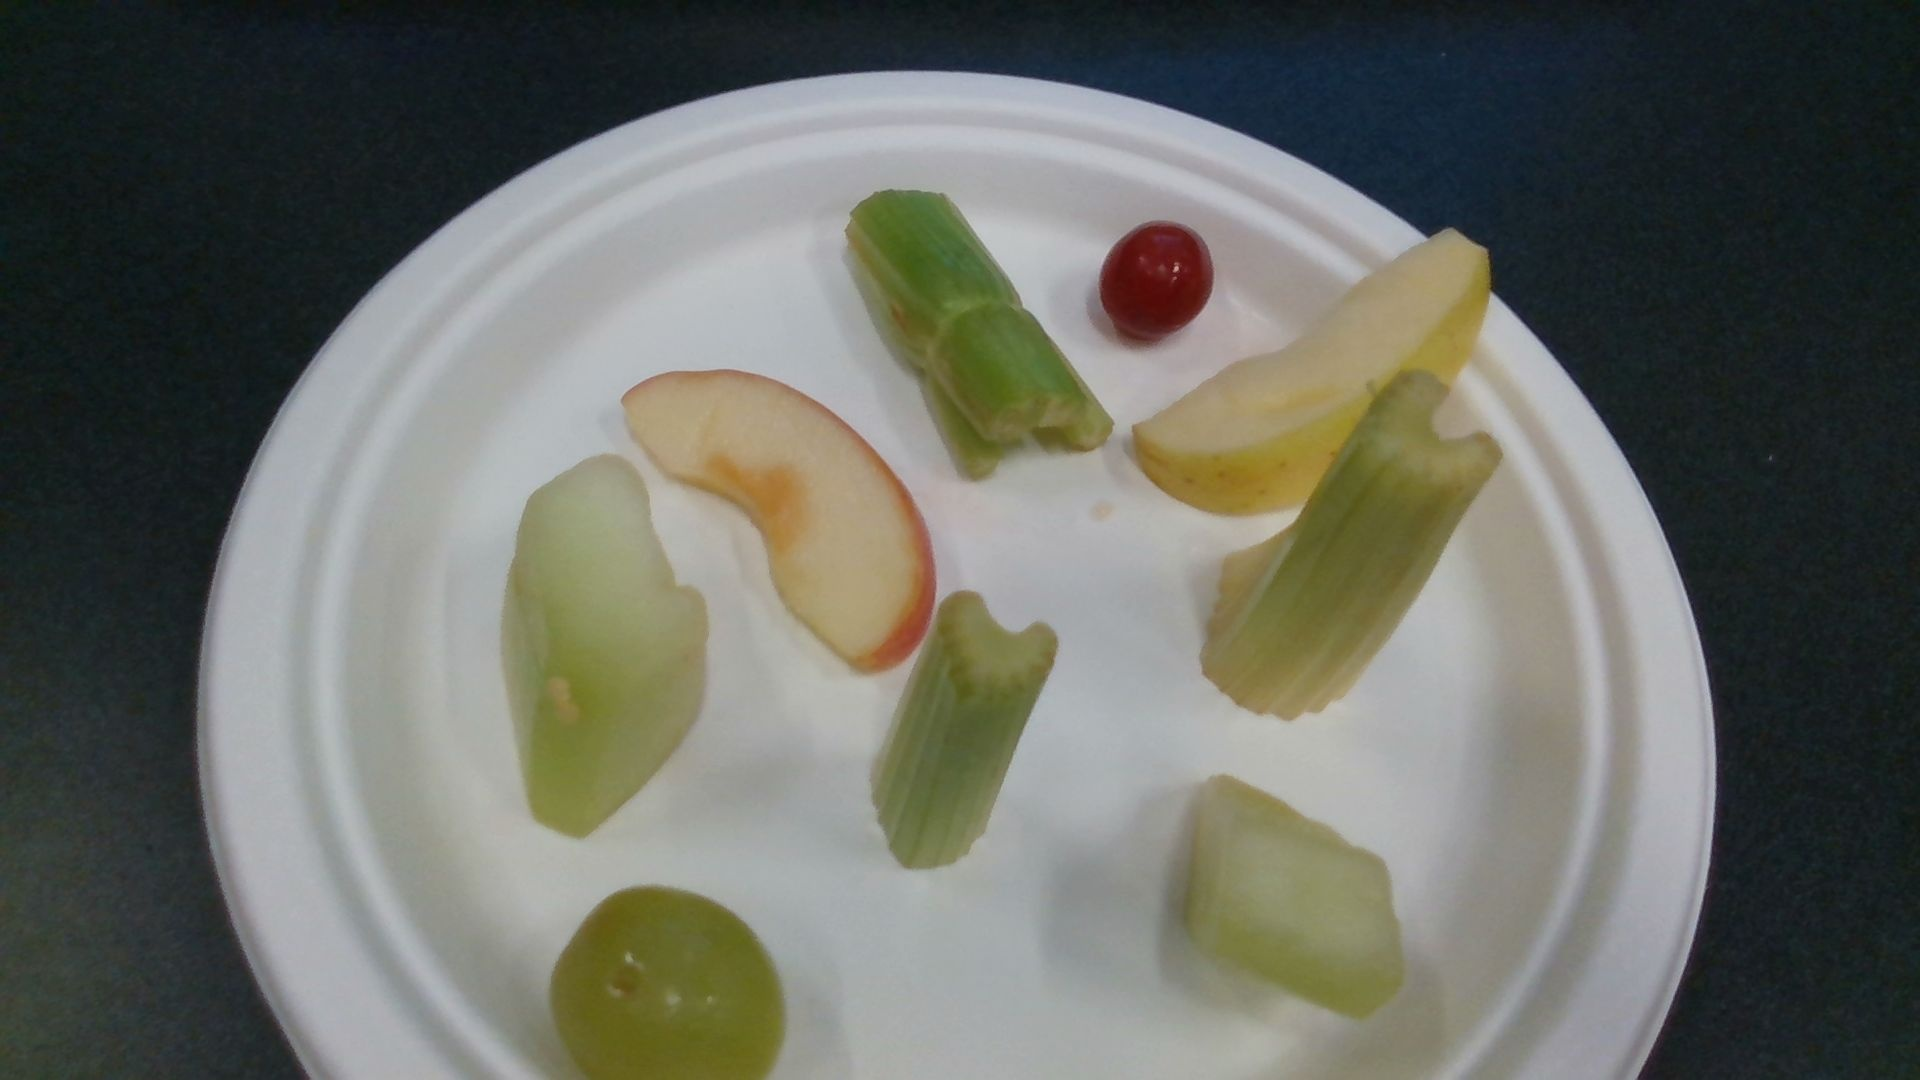apple: (1131, 228, 1494, 518), (622, 371, 934, 655)
cantalope: (502, 456, 705, 836), (1185, 775, 1404, 1015)
celery: (1200, 373, 1501, 717), (844, 191, 1110, 477), (866, 589, 1058, 870)
grape_green: (549, 886, 783, 1080)
grape_purple: (1100, 223, 1212, 342)
